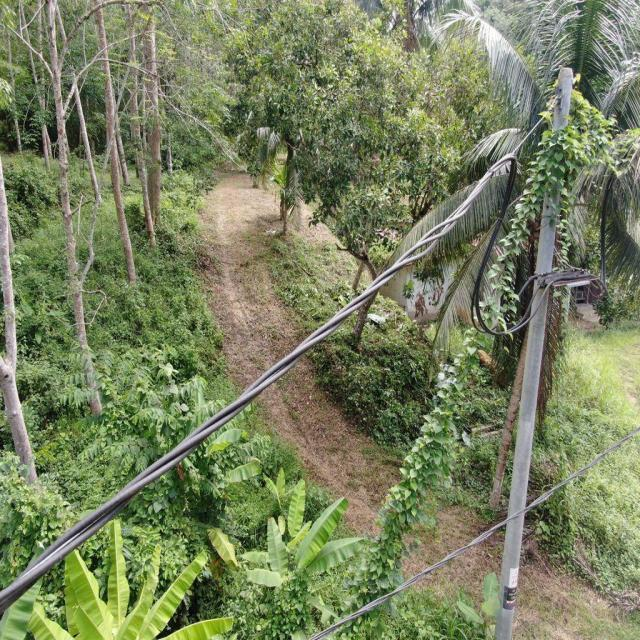critical vegetation: (362, 94, 615, 599)
